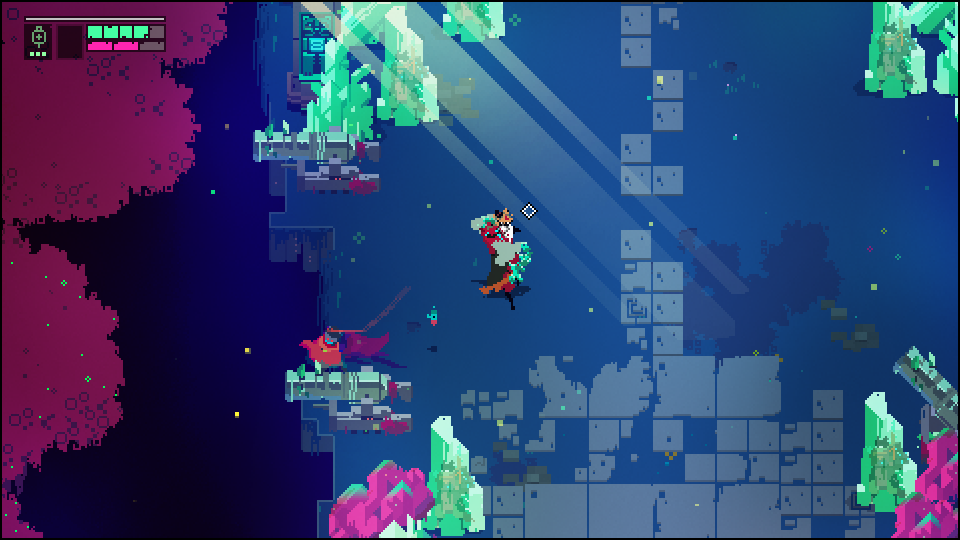hanged_man: (465, 210, 531, 307)
player: (294, 335, 341, 371)
